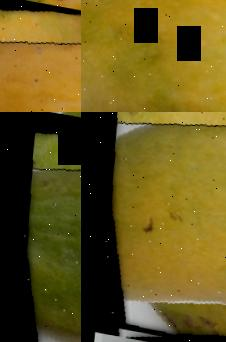PartiallyRipe: (84, 112, 226, 342), (81, 0, 226, 112)
Ripe: (0, 0, 81, 112)
Unripe: (0, 114, 81, 342)
